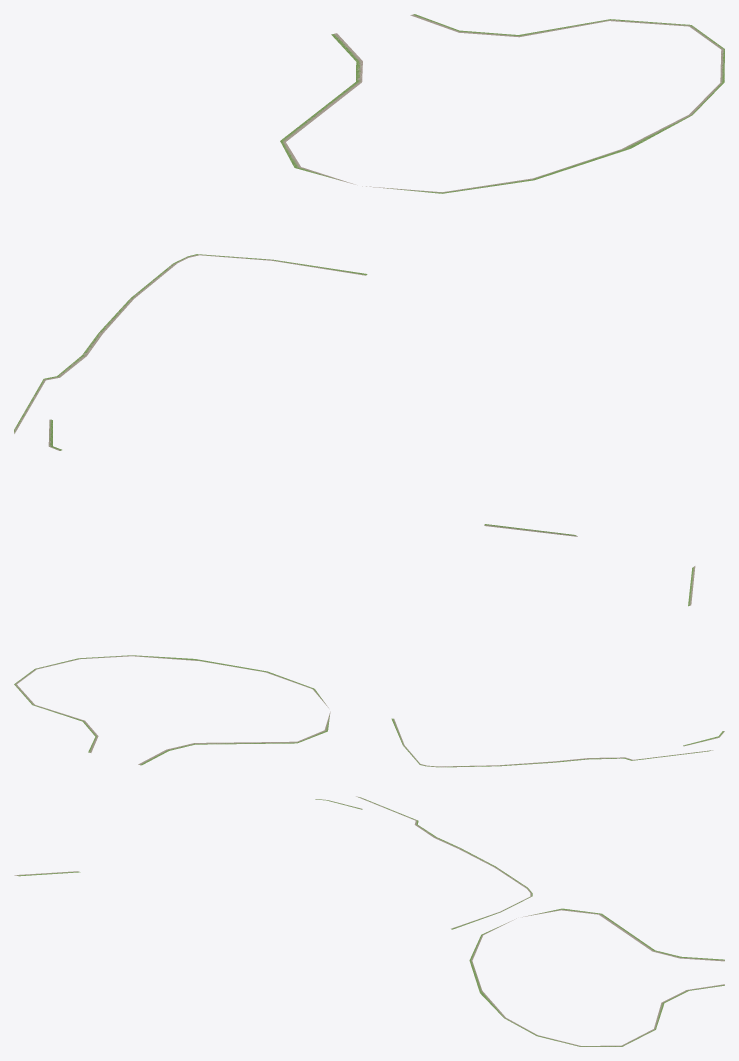
Rendered from kd_stage_13612f_5_68_bounded.glb.
3 views of the same model, one above another, from view 1: azimuth 30°, elevation 25°; view 2: azimuth 150°, elevation 25°; view 3: azimuth 270°, elevation 25° (orthographic). The views are drawn at different scales.
Visible parts, largest first — view 1: kd_stage_13612f_5_68_bounded; view 2: kd_stage_13612f_5_68_bounded; view 3: kd_stage_13612f_5_68_bounded.
Part boxes in pixels (left/top/right/bottom): kd_stage_13612f_5_68_bounded: left=14, top=14, right=724, bottom=536; kd_stage_13612f_5_68_bounded: left=14, top=566, right=724, bottom=767; kd_stage_13612f_5_68_bounded: left=14, top=796, right=724, bottom=1046.
Bounding box in the file's own units: 9.8 × 0.4199 × 10.65.
1 material, 1 textured.
